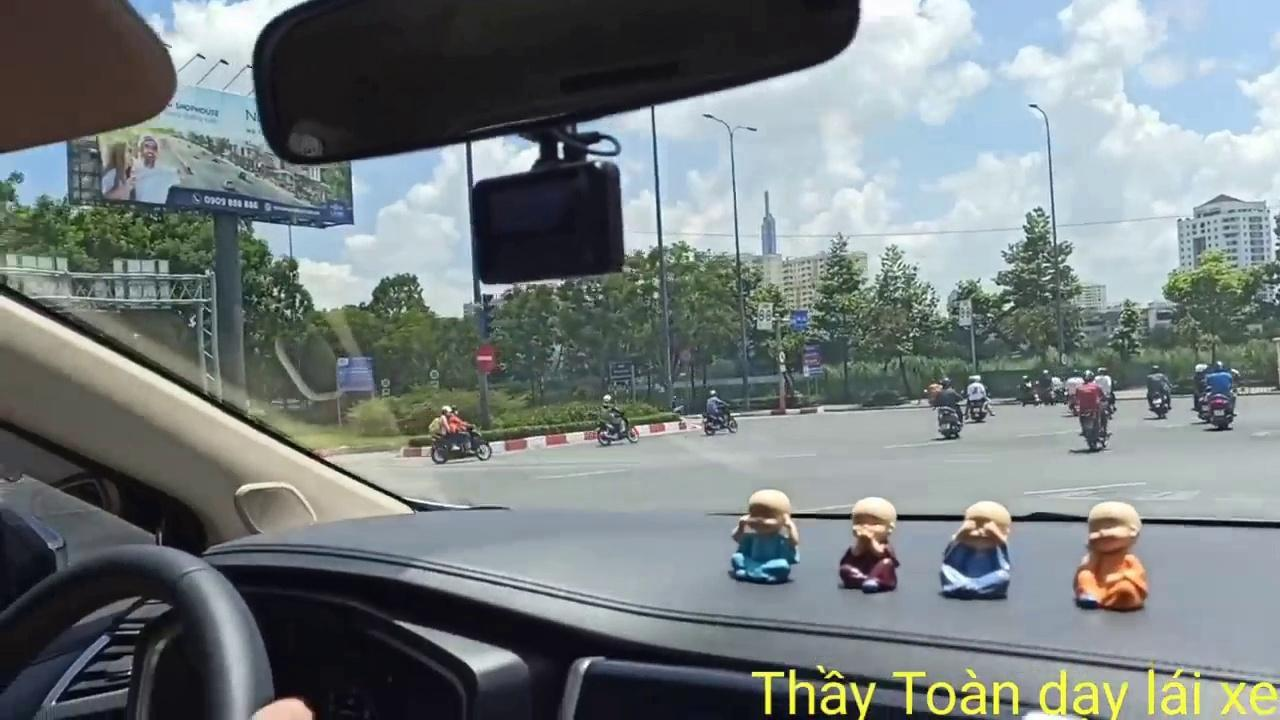Cấm cac phương tiện hoạt động trong khung giờ cố định: (756, 300, 773, 330)
Cấm đi ngược chiều: (471, 341, 500, 376)
Khác: (336, 356, 376, 393), (801, 345, 824, 376)
Làn đường cho từng xe: (789, 309, 808, 332)
